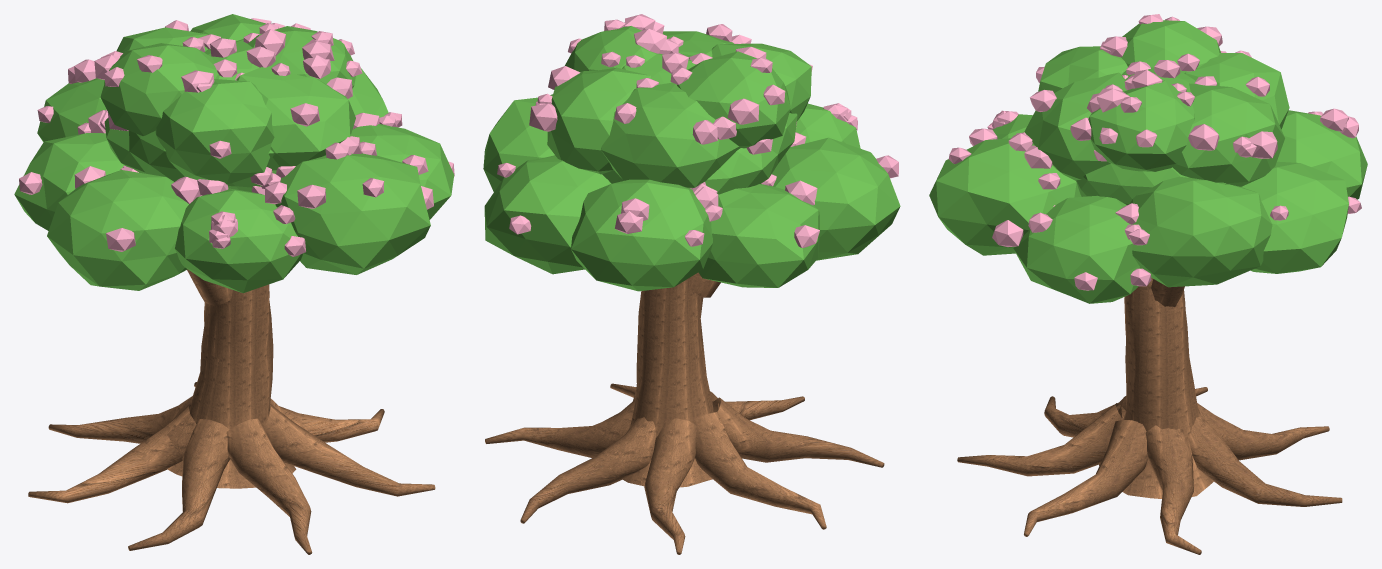
File: heart_tree.glb
3 views of the same model, side by side, from view 1: azimuth 30°, elevation 25°; view 2: azimuth 150°, elevation 25°; view 3: azimuth 270°, elevation 25° (orthographic). The views are drawn at different scales.
Visible parts, largest first — view 1: HT_Canopy, HT_Trunk, HT_Root6, HT_Root5, HT_Root7, HT_Root4, HT_Root3, HT_Root1; view 2: HT_Canopy, HT_Trunk, HT_Root4, HT_Root2, HT_Root3, HT_Root5, HT_Root1, HT_Root6; view 3: HT_Canopy, HT_Trunk, HT_Root7, HT_Root2, HT_Root6, HT_Root1, HT_Root3, HT_Root5.
Boxes of the visible parts, x1,y1,x2,y2 form: HT_Canopy: [14, 14, 454, 293]; HT_Trunk: [167, 269, 296, 488]; HT_Root6: [226, 418, 312, 554]; HT_Root5: [128, 419, 229, 550]; HT_Root7: [263, 404, 435, 496]; HT_Root4: [28, 404, 196, 503]; HT_Root3: [48, 396, 192, 443]; HT_Root1: [270, 398, 384, 442]; HT_Canopy: [483, 14, 900, 291]; HT_Trunk: [623, 272, 720, 487]; HT_Root4: [692, 412, 826, 529]; HT_Root2: [520, 417, 655, 523]; HT_Root3: [644, 418, 696, 554]; HT_Root5: [712, 397, 884, 467]; HT_Root1: [485, 400, 634, 457]; HT_Root6: [710, 391, 804, 420]; HT_Canopy: [929, 14, 1367, 303]; HT_Trunk: [1099, 278, 1213, 498]; HT_Root7: [1024, 419, 1148, 536]; HT_Root2: [1189, 413, 1342, 506]; HT_Root6: [957, 403, 1126, 476]; HT_Root1: [1145, 425, 1201, 554]; HT_Root3: [1197, 403, 1329, 460]; HT_Root5: [1044, 396, 1126, 437].
Bounding box in the file's own units: 41.01 × 45.57 × 42.96.
Materials: 3 (1 with a texture image).
